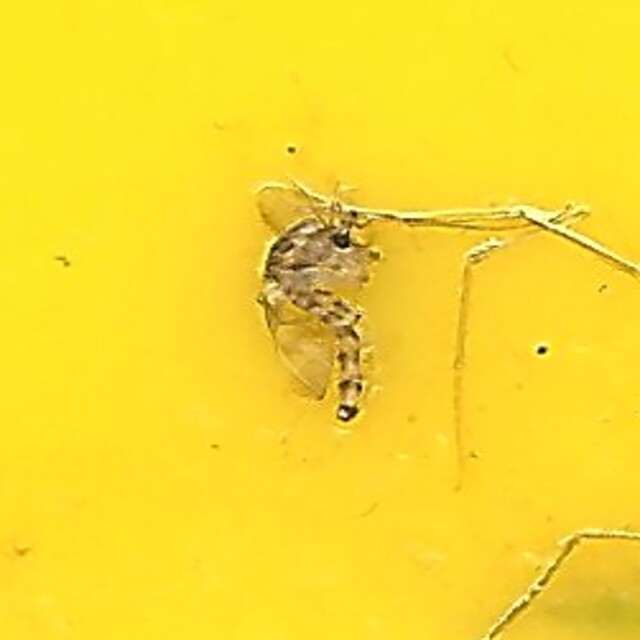Nematocera: (255, 210, 385, 430)
